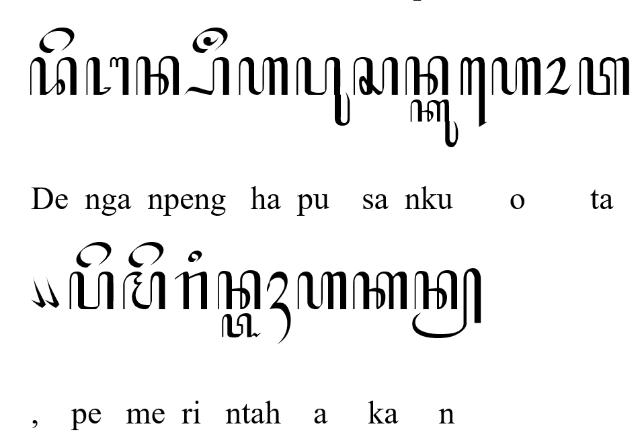-n: (411, 268, 481, 338)
_h1: (266, 270, 292, 344)
_p: (184, 57, 230, 96)
_t: (220, 312, 262, 338)
d: (29, 56, 77, 96)
e: (76, 240, 112, 268), (39, 27, 75, 54), (128, 241, 164, 268)
e1: (459, 56, 487, 127)
eng: (192, 27, 228, 54)
h: (297, 270, 347, 310), (238, 57, 288, 96), (492, 57, 542, 96)
i: (188, 250, 202, 262)
k: (352, 271, 408, 309)
kom: (30, 276, 46, 308), (44, 276, 60, 308)
ku: (409, 98, 458, 148)
m: (122, 270, 166, 310)
n: (404, 55, 450, 95), (136, 56, 180, 96), (217, 270, 261, 310)
nga: (85, 56, 128, 96)
o: (544, 56, 572, 94)
p: (68, 270, 114, 310)
pu: (296, 56, 350, 126)
r: (174, 271, 208, 311)
s: (353, 57, 399, 96)
t: (578, 57, 630, 95)
